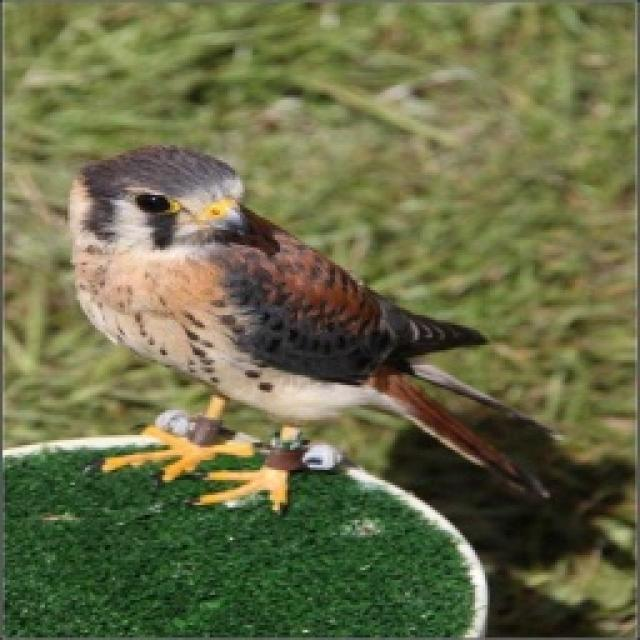sparrow: (62, 140, 560, 515)
